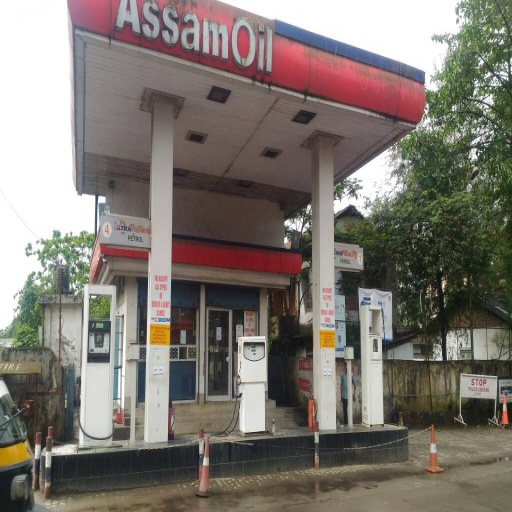roof: (75, 1, 425, 195)
